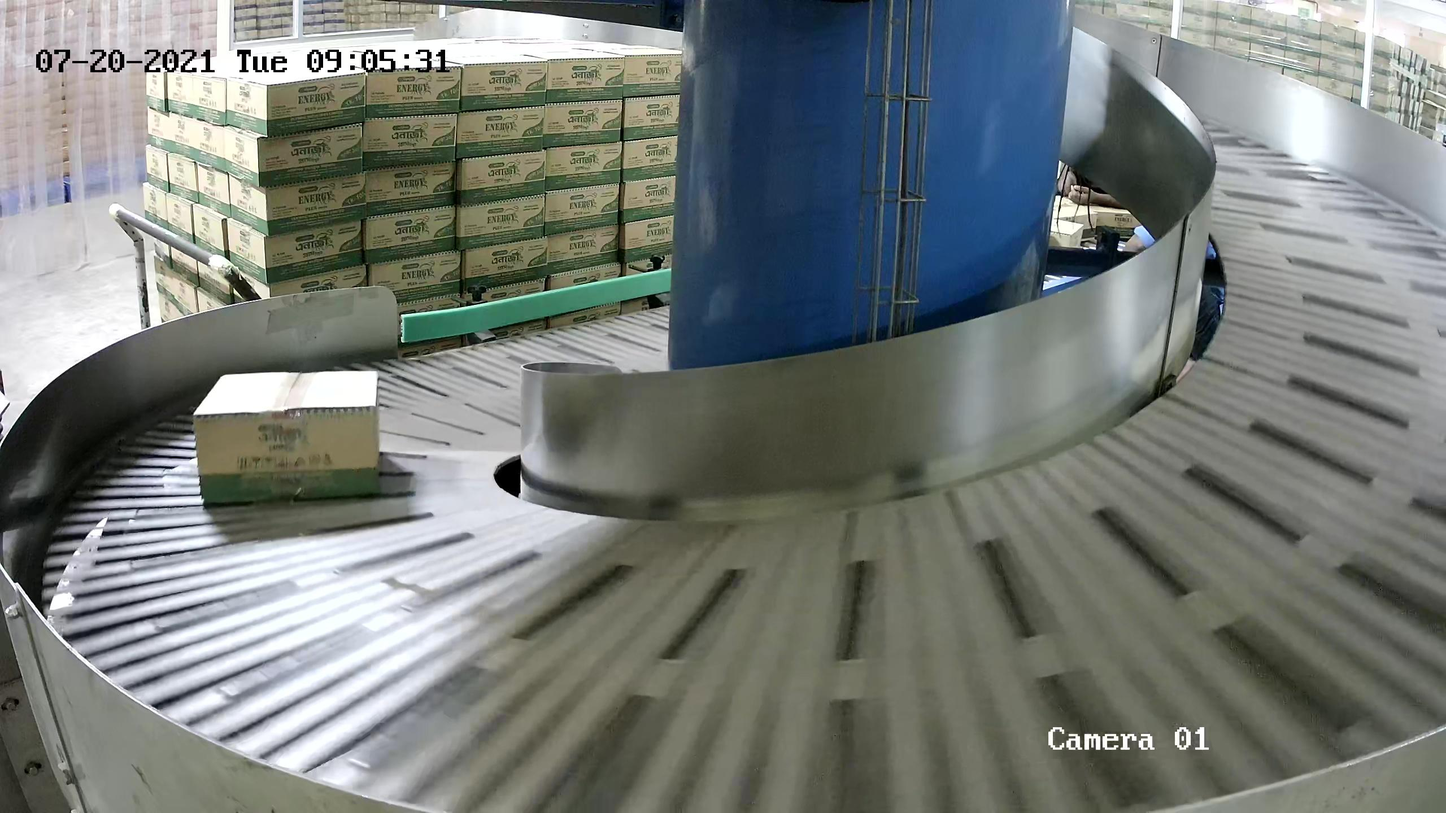Box: (191, 370, 380, 505)
